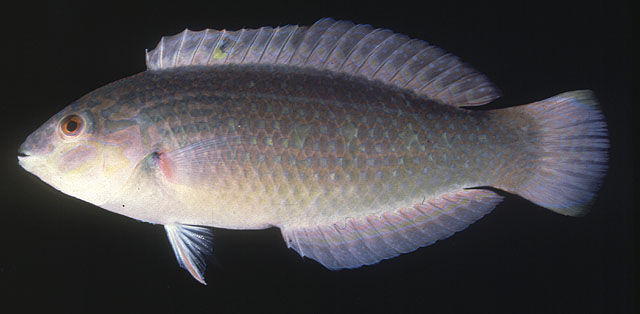fish: (17, 15, 609, 287)
